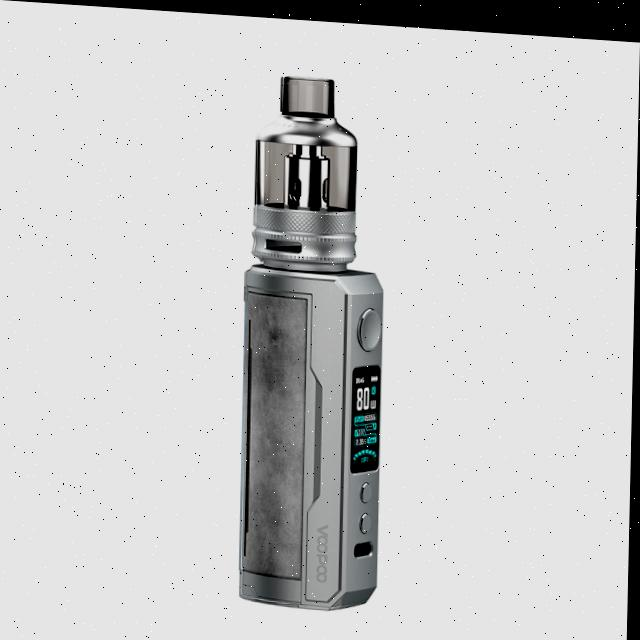vape: (240, 68, 391, 608)
